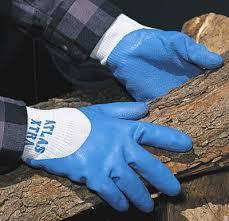gloves: (20, 100, 193, 213), (88, 13, 224, 102)
